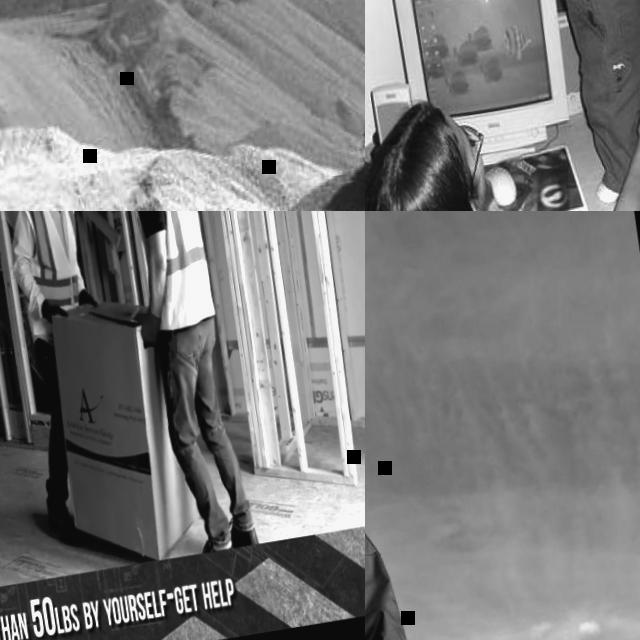no_helmet: (365, 97, 478, 211)
no_mask: (464, 149, 496, 211)
no_vest: (543, 0, 640, 56)
person: (97, 211, 268, 558), (0, 211, 137, 545), (365, 63, 640, 211), (365, 223, 460, 640), (483, 0, 640, 211)
vest: (123, 211, 223, 333), (5, 211, 95, 332)
